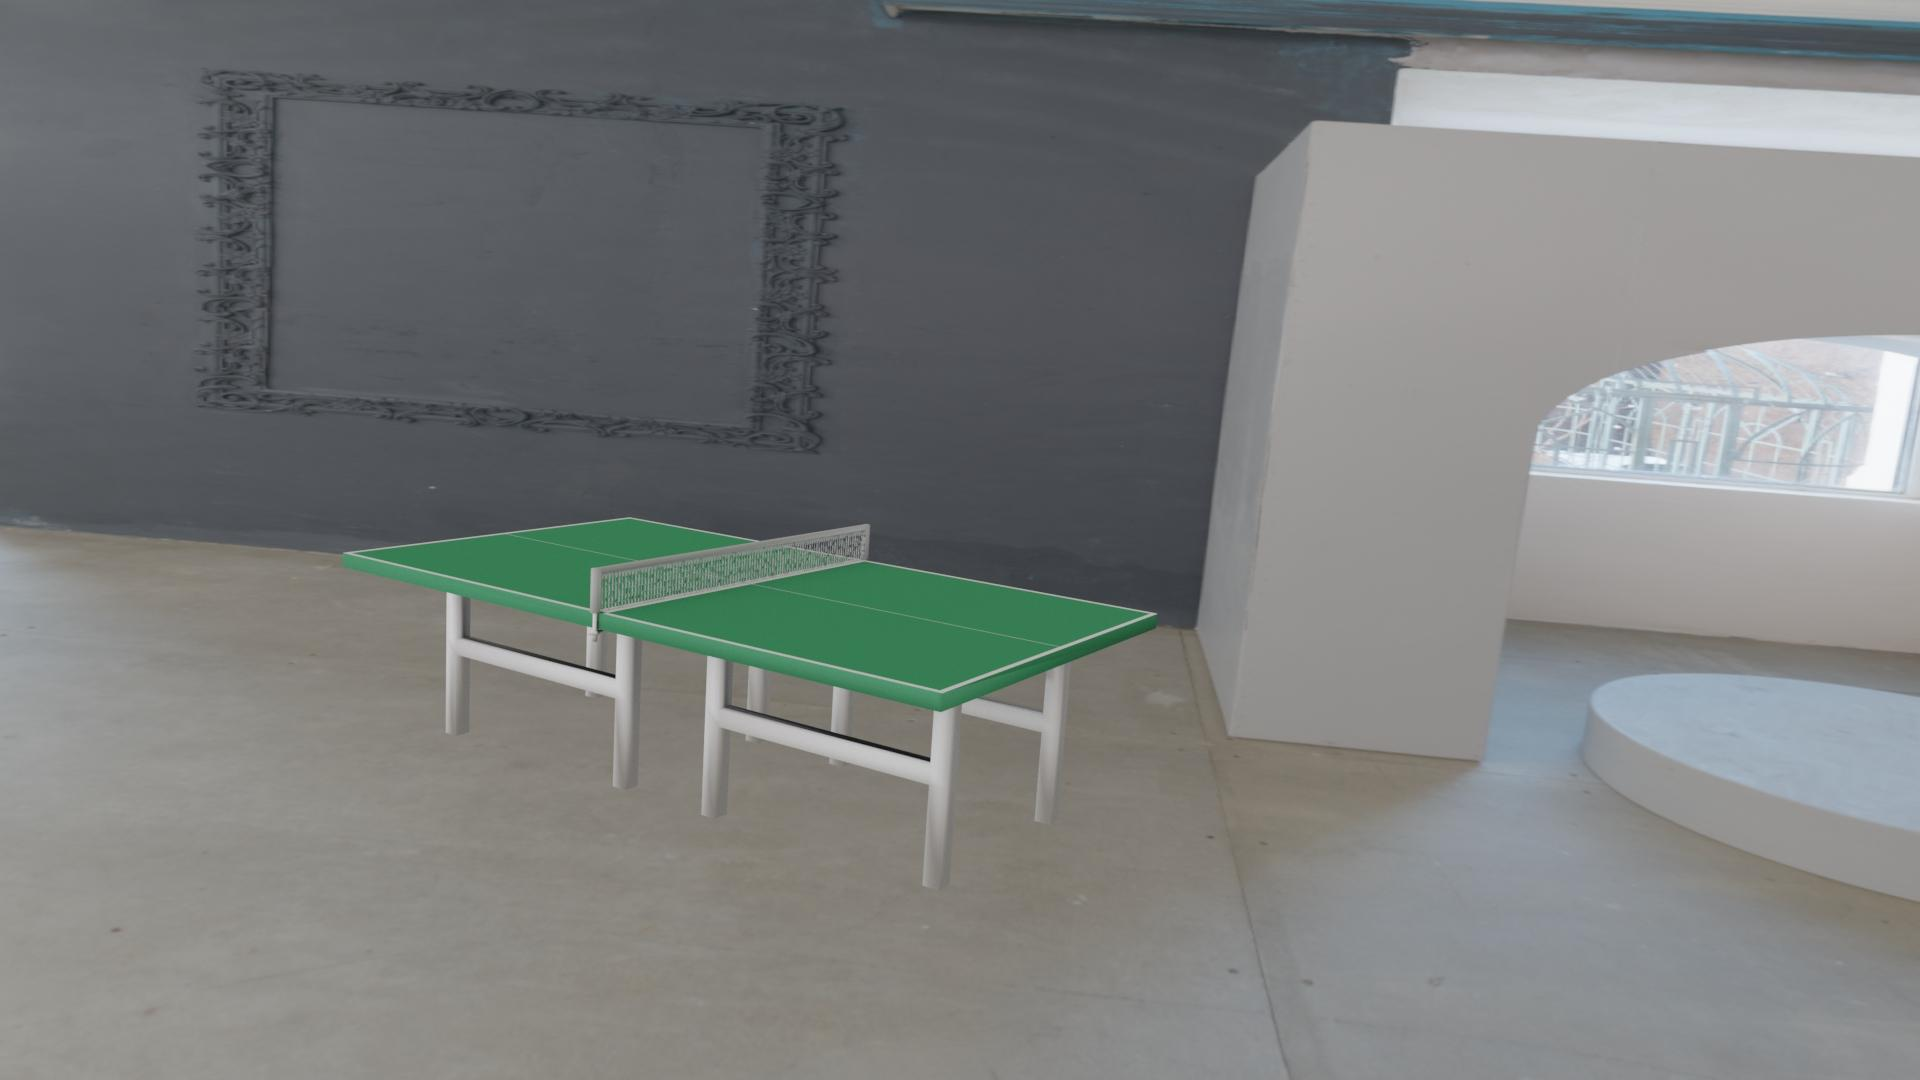table: (351, 518, 1151, 691)
